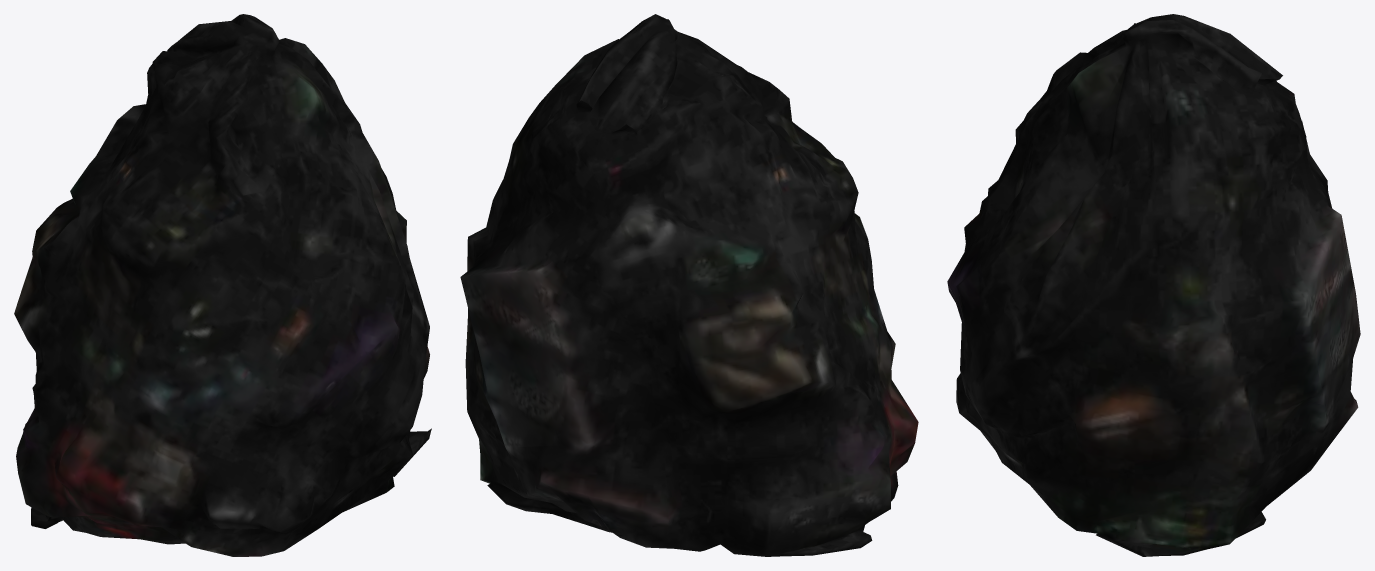
The model's file is sac_poubelle_lod0.glb.
3 views of the same model, side by side, from view 1: azimuth 30°, elevation 25°; view 2: azimuth 150°, elevation 25°; view 3: azimuth 270°, elevation 25° (orthographic). The views are drawn at different scales.
Visible parts, largest first — view 1: trashbag; view 2: trashbag; view 3: trashbag.
Boxes of the visible parts, x1,y1,x2,y2 form: trashbag: (14,14,431,556); trashbag: (460,14,918,556); trashbag: (947,14,1360,556).
Size of the model in its own units: 0.5281 by 0.5731 by 0.4629.
Materials: 1 (1 with a texture image).
